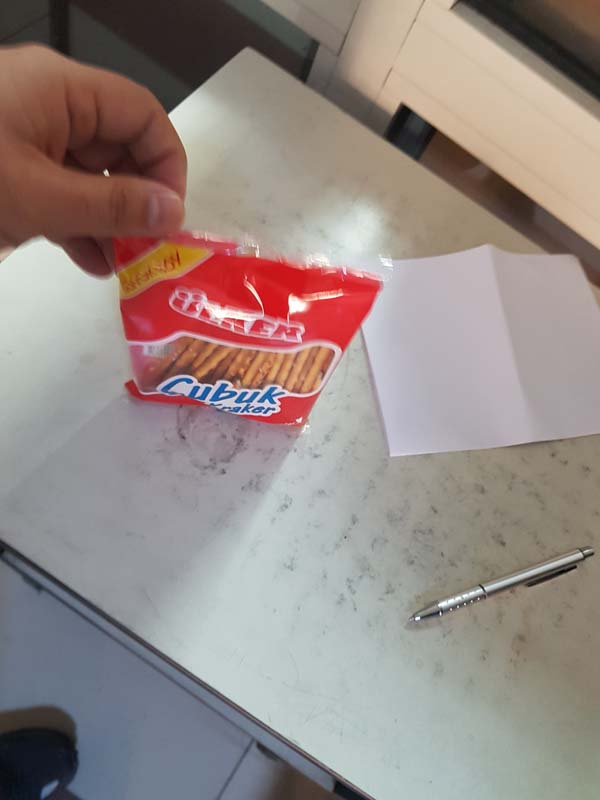eticubuk: (117, 224, 385, 436)
